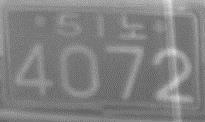0: (58, 43, 101, 99)
1: (87, 11, 112, 36)
2: (151, 47, 195, 104)
4: (14, 42, 53, 95)
5: (55, 12, 82, 37)
7: (105, 45, 145, 99)
노: (119, 13, 145, 39)
